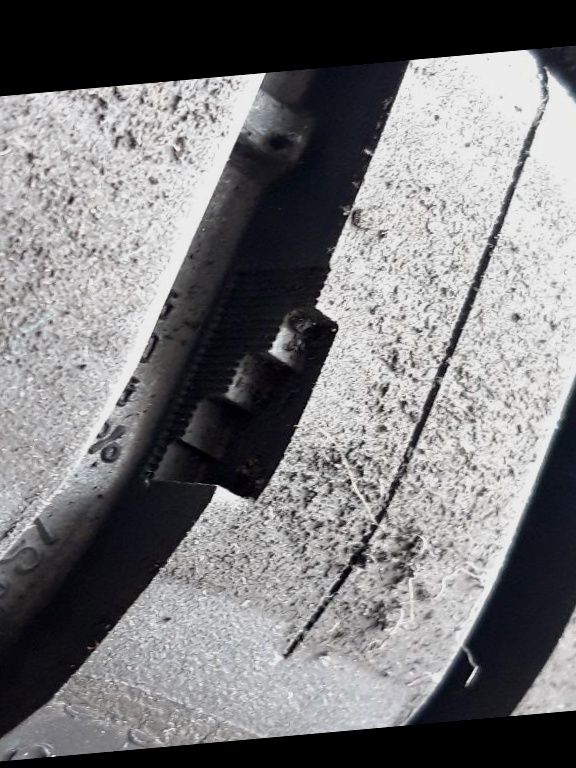temoin:95: (129, 247, 352, 528)
